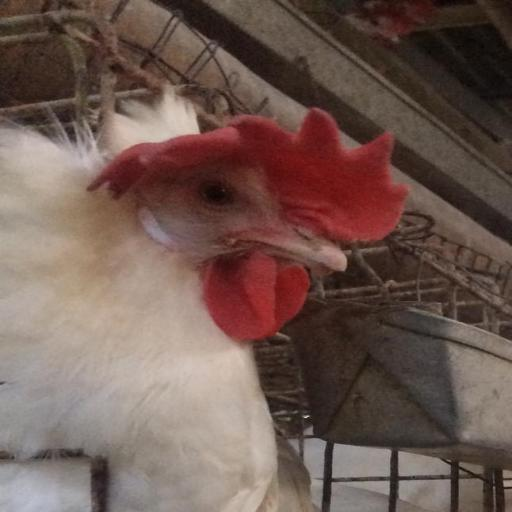healthy: (134, 134, 348, 307)
